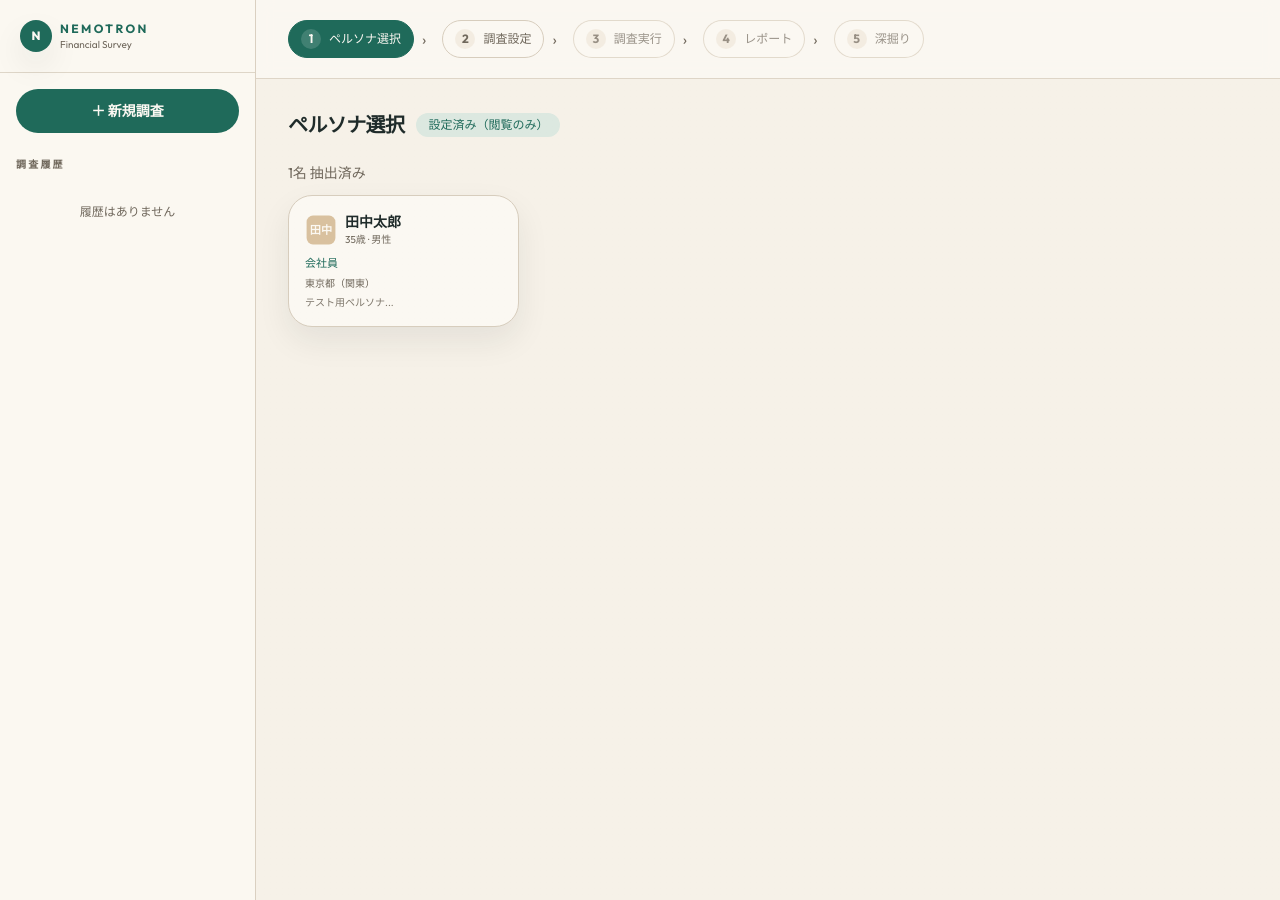
Test: App navigation › allows navigating from the step-1 review to config via the step indicator
Click the button "2 調査設定" at x=493, y=39, box [442, 20, 544, 58]
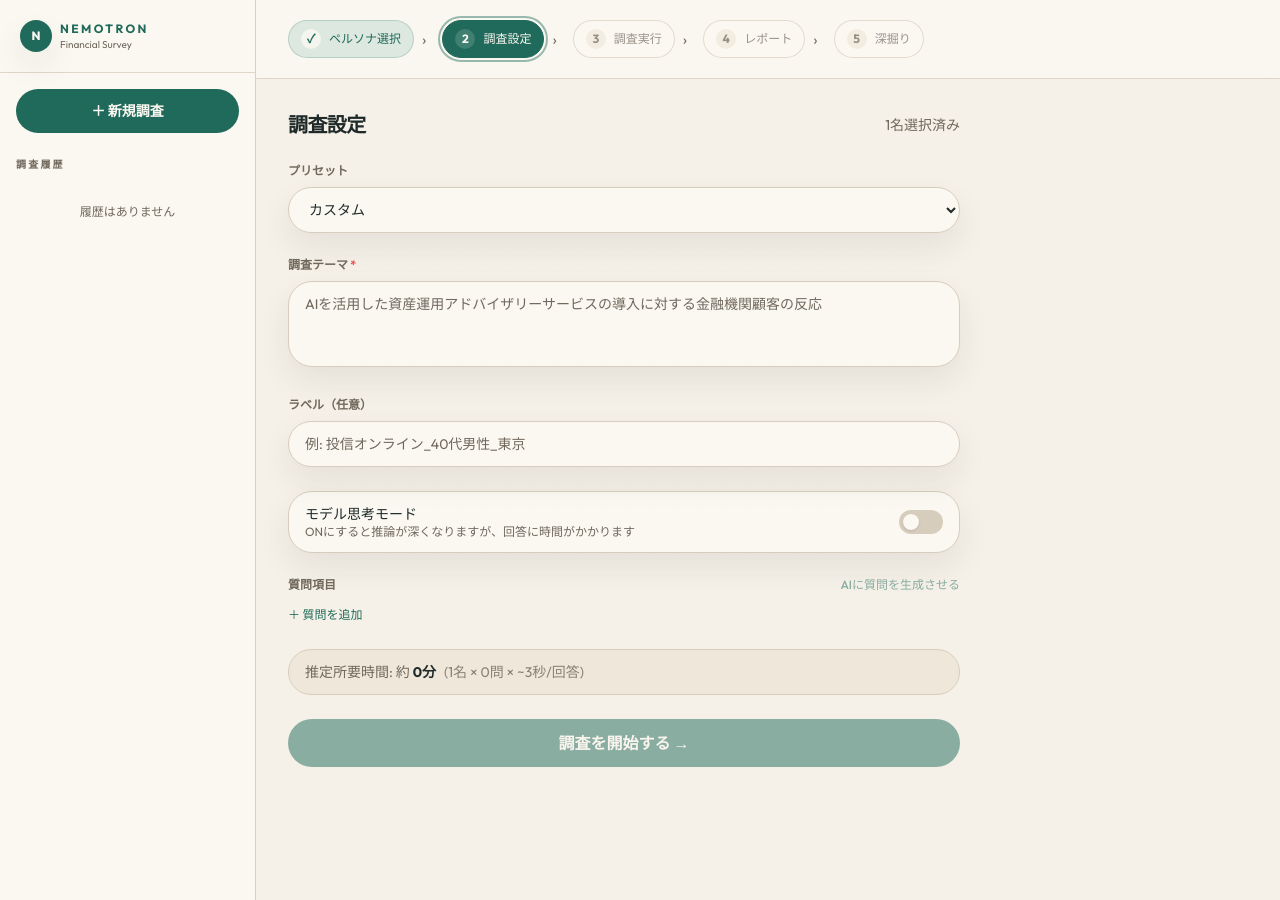
Expected: the element with test id "survey-config-screen" is shown, [288, 111, 960, 767]
